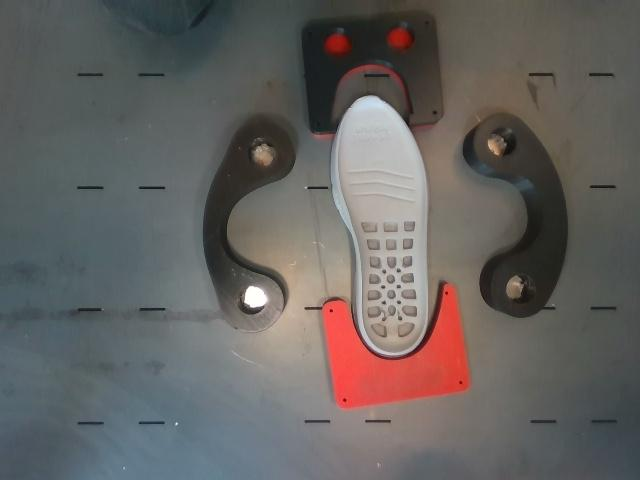shoes: (338, 98, 427, 353)
